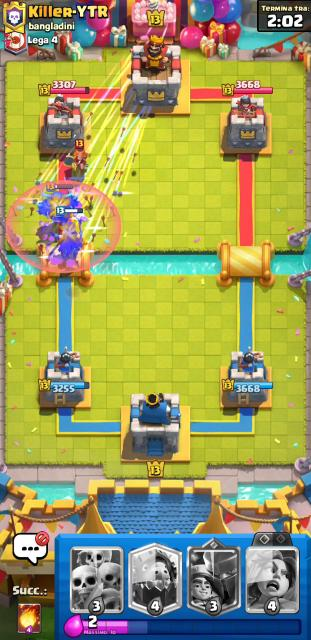ally_melee: (52, 204, 84, 266), (38, 181, 83, 222)
